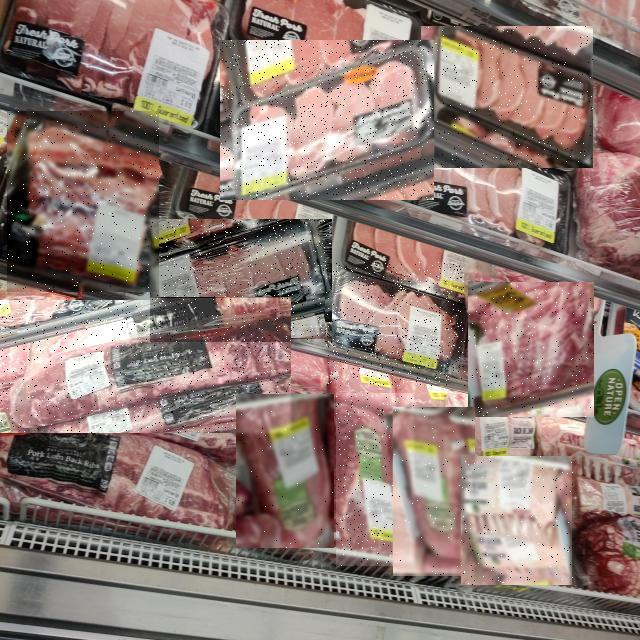Meat: (0, 300, 291, 433), (220, 41, 434, 201), (7, 111, 159, 292), (421, 26, 593, 168), (151, 220, 333, 342), (325, 263, 465, 387), (468, 282, 594, 417), (236, 394, 334, 548), (462, 456, 574, 585), (393, 408, 475, 578), (336, 393, 414, 566)
